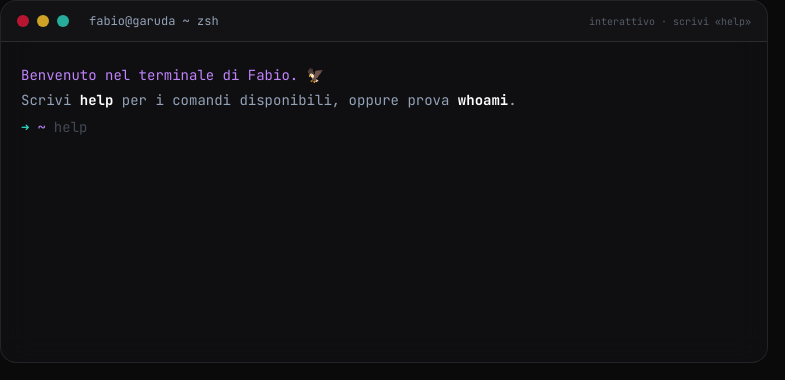
Test: Terminal interattivo › il comando tesi valorizza NLP/NLTK con un link
The image size is (785, 380).
In the field named "Terminale interattivo": (400, 127) [54, 116, 747, 138], type "tesi"
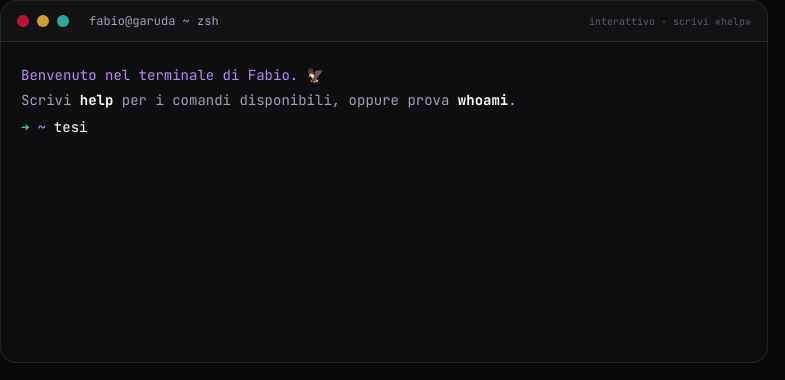
Press Enter in the field named "Terminale interattivo", box [54, 116, 747, 138]
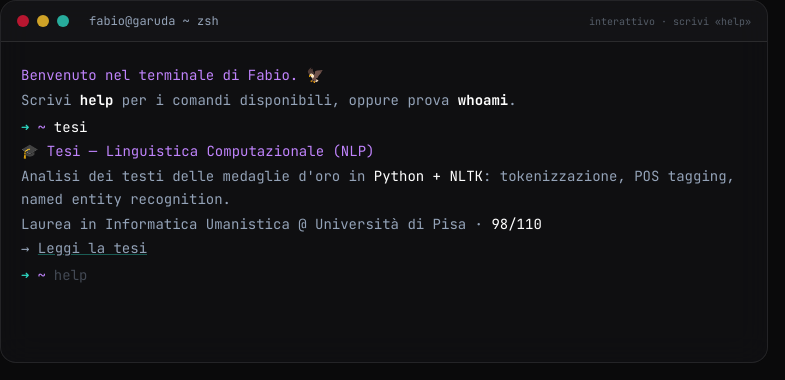
Expected: the text "Python + NLTK" is shown, [374, 167, 483, 185]
